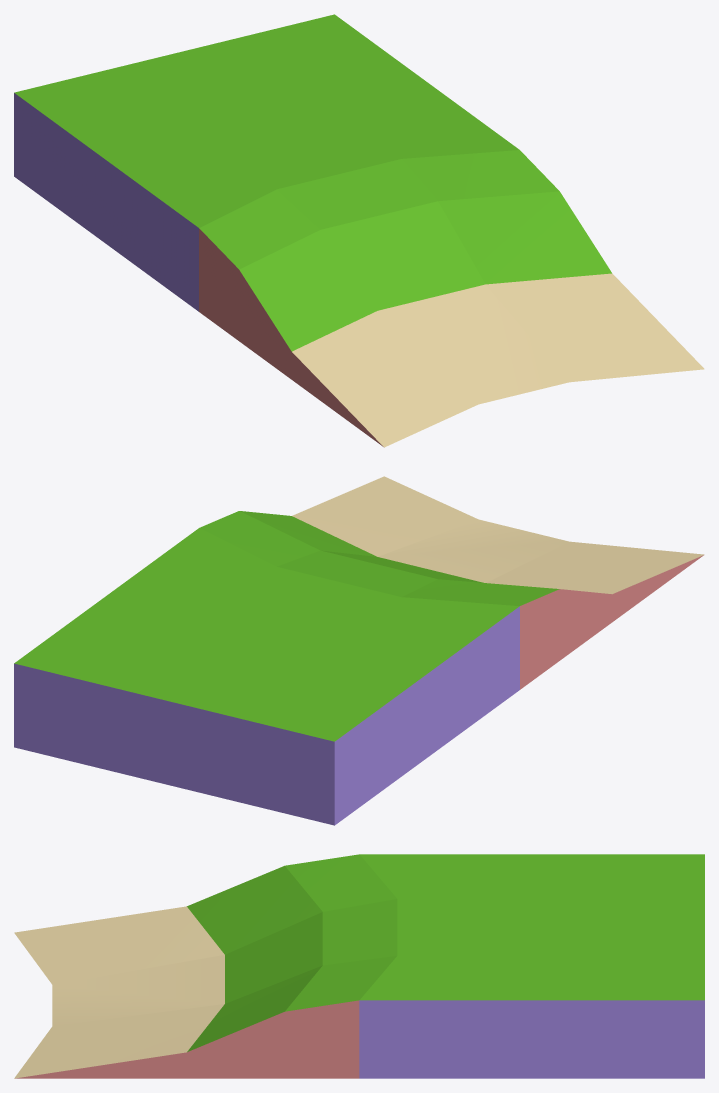
Rendered from Path_Terrain_Deformed_Straight_Concave_1x2.glb.
3 views of the same model, one above another, from view 1: azimuth 30°, elevation 25°; view 2: azimuth 150°, elevation 25°; view 3: azimuth 270°, elevation 25° (orthographic). The views are drawn at different scales.
Visible parts, largest first — view 1: Path_Terrain_Deformed_Straight_Concave_1x2; view 2: Path_Terrain_Deformed_Straight_Concave_1x2; view 3: Path_Terrain_Deformed_Straight_Concave_1x2.
Part boxes in pixels (x1=…): Path_Terrain_Deformed_Straight_Concave_1x2: x1=14, y1=14, x2=704, y2=447; Path_Terrain_Deformed_Straight_Concave_1x2: x1=14, y1=476, x2=704, y2=825; Path_Terrain_Deformed_Straight_Concave_1x2: x1=14, y1=854, x2=704, y2=1078.
Bounding box in the file's own units: 100 × 25 × 200.
